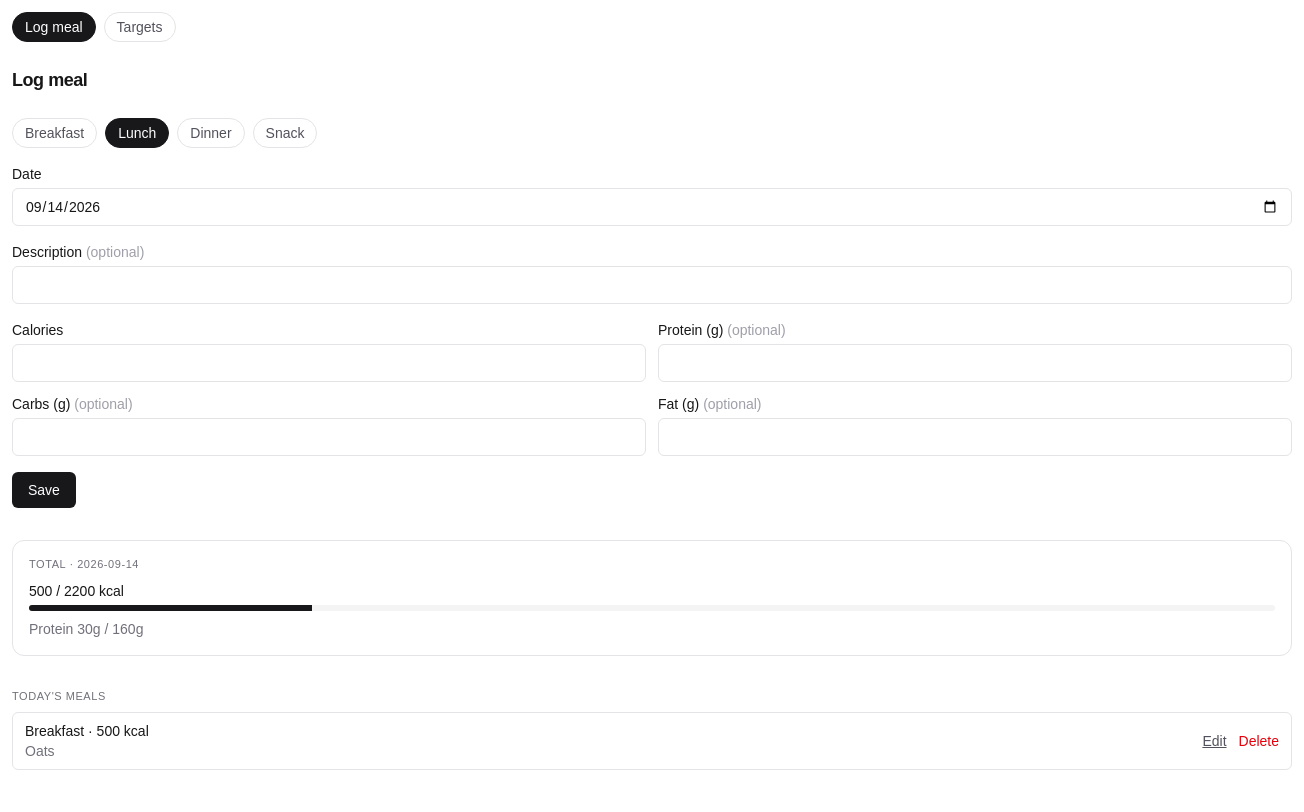
Test: FuelPanel — Total · Today vs. post-save card agreement (NFR-166) › NFR-166: once both have settled, the transient post-save card and the persistent Total · Today card show identical numbers for the same save
This screenshot has width=1304, height=812.
Type "500" into the number field named "calories" at (329, 363), box [12,344,646,382]
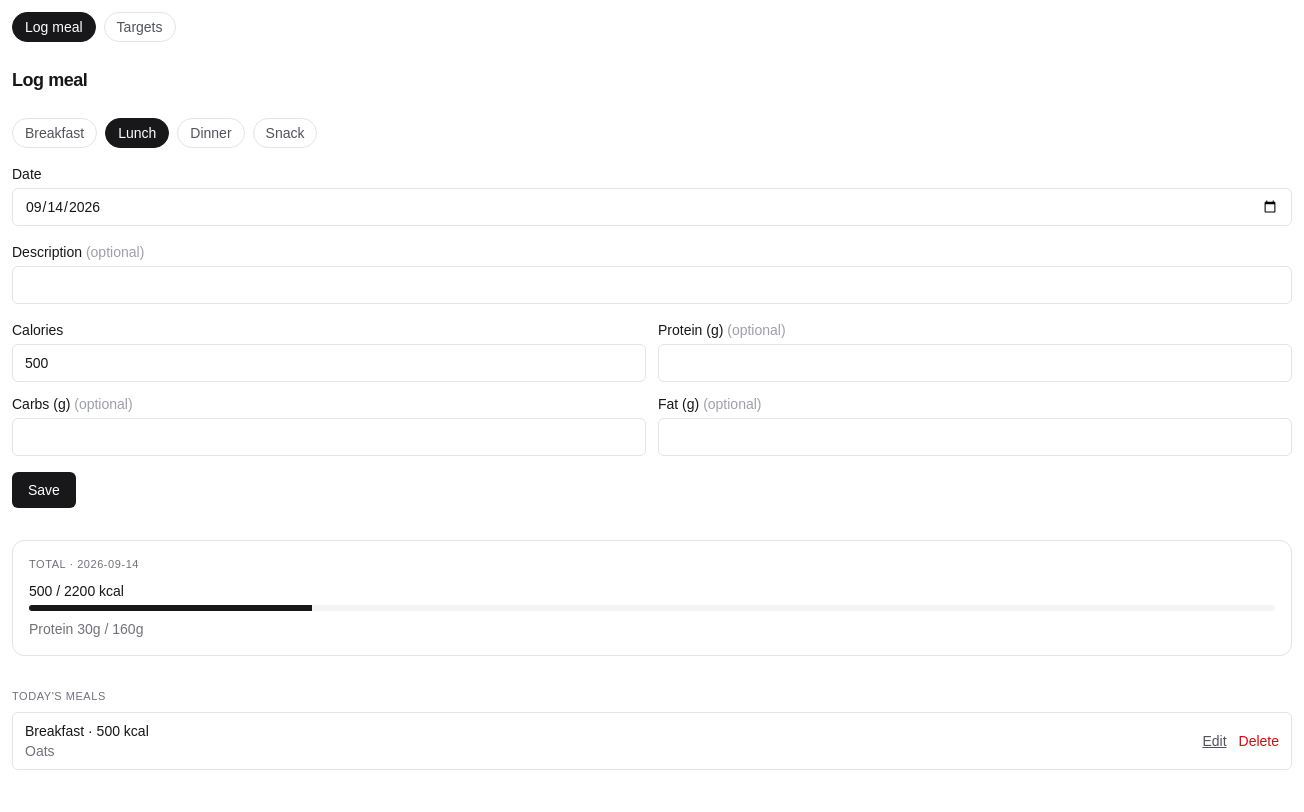
Click the button "Save" at (44, 490), box [12,472,76,508]
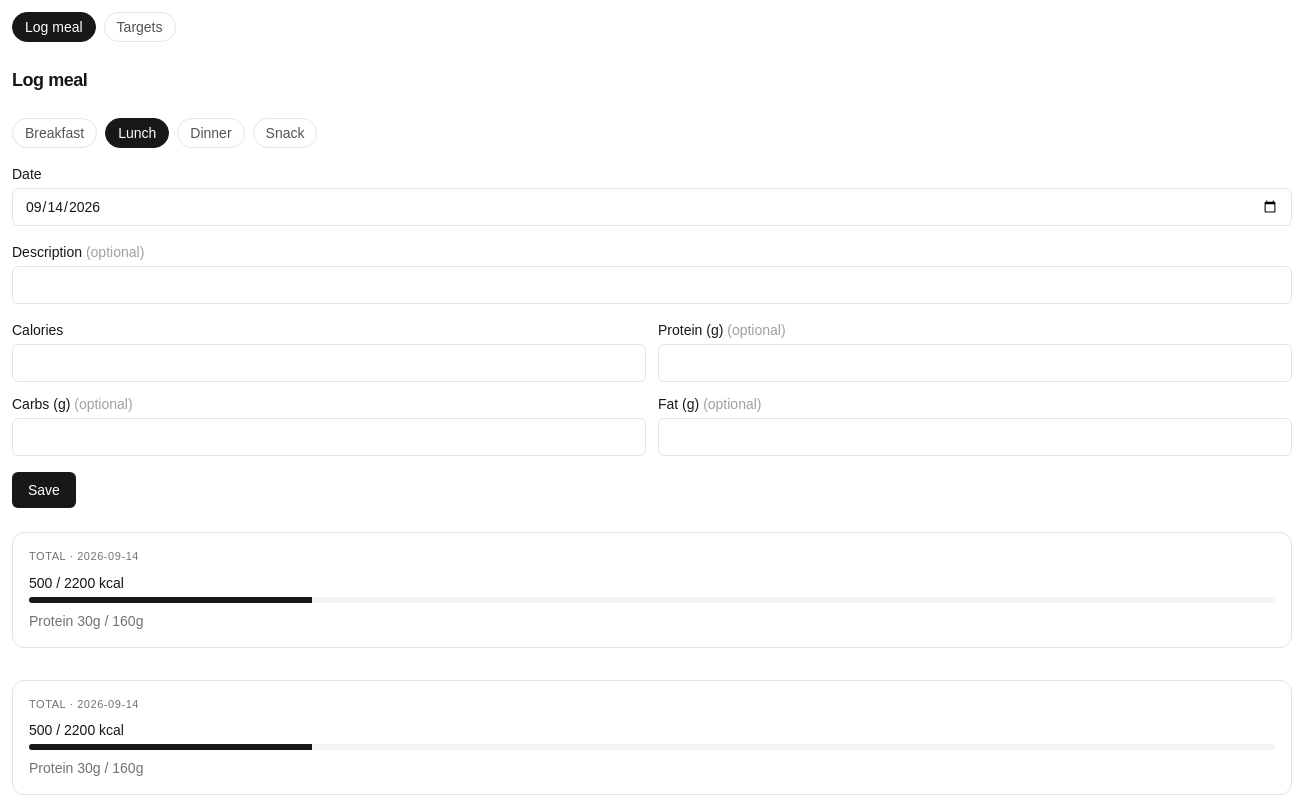
Check: the text "500 / 2200 kcal" is shown 2 times, box [29,573,124,593]; [29,720,124,740]
